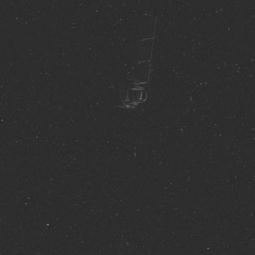earth_observation_sat_1: (103, 1, 165, 116)
